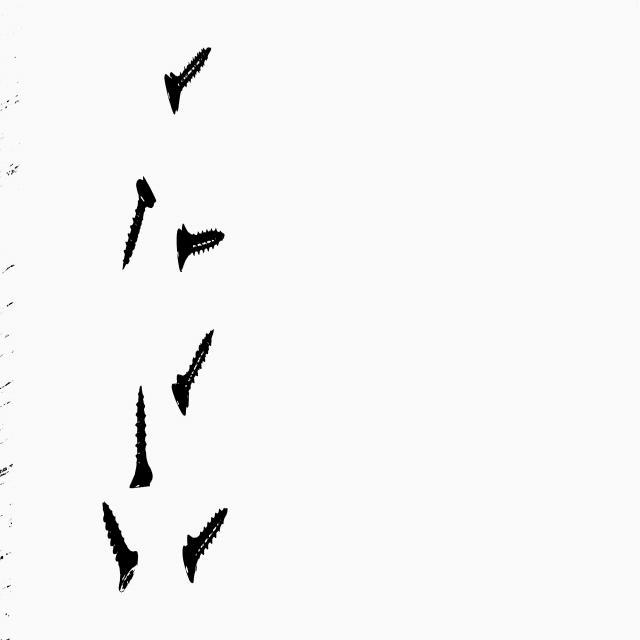Screw: (171, 329, 213, 414), (182, 508, 227, 583), (164, 44, 211, 112), (102, 502, 137, 591), (122, 175, 155, 268), (129, 385, 152, 487), (176, 223, 224, 270)
